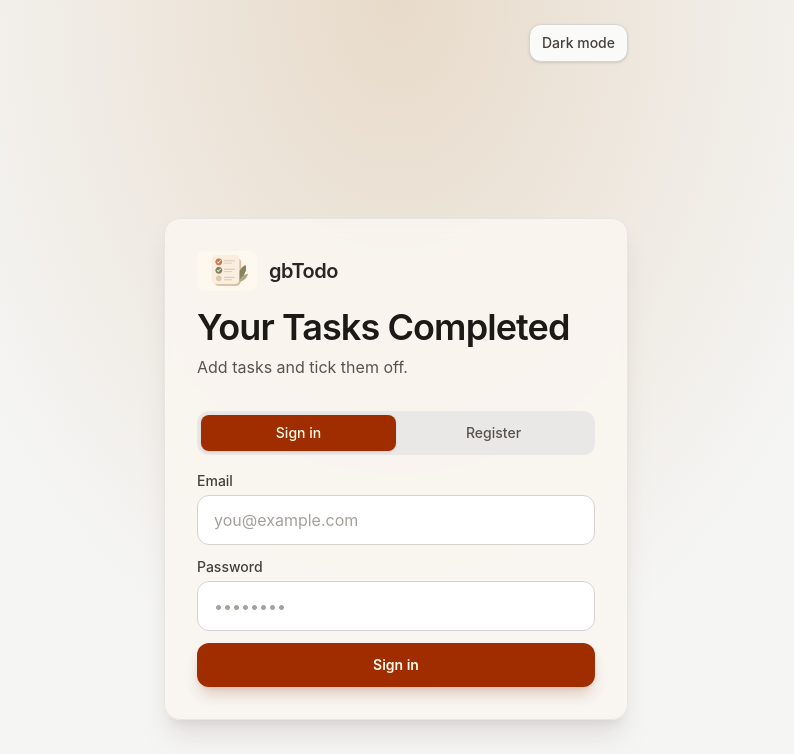
Test case: auth gate › registers a new account with email and password
Expected: the field labelled "Email" is shown, [197,495,595,545]
Click the tab "Register".
click(494, 433)  # box [396,415,591,451]
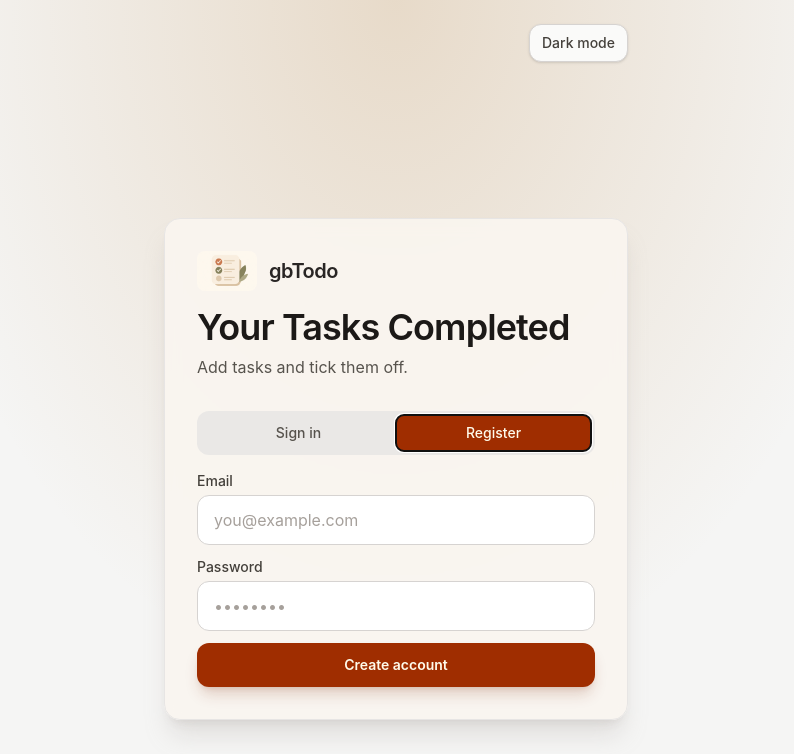
Type "newbie@example.com" into the field labelled "Email".
click(396, 520); type("newbie@example.com")  # box [197,495,595,545]
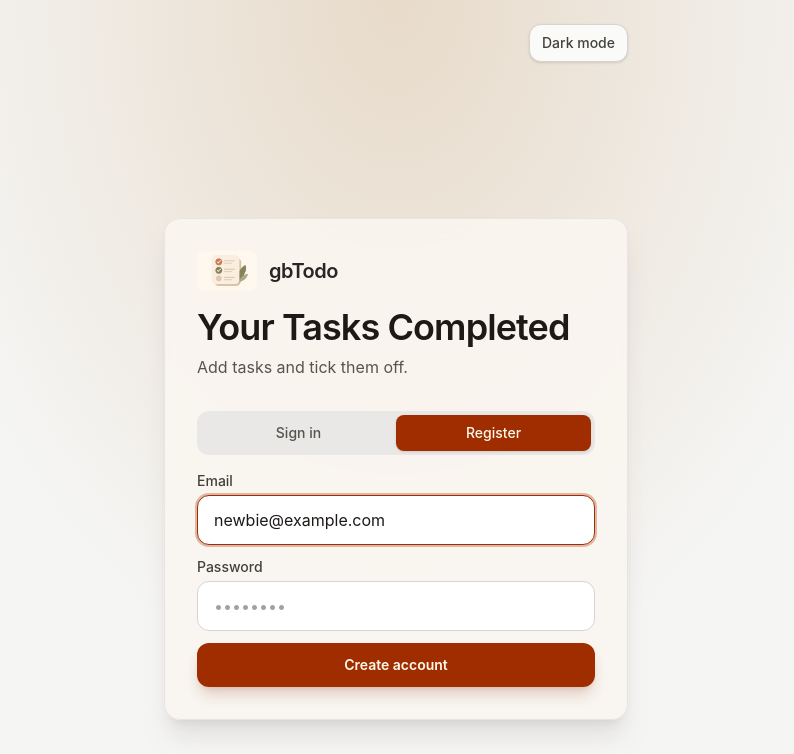
Type "secret123" into the password field labelled "Password".
click(396, 606); type("secret123")  # box [197,581,595,631]
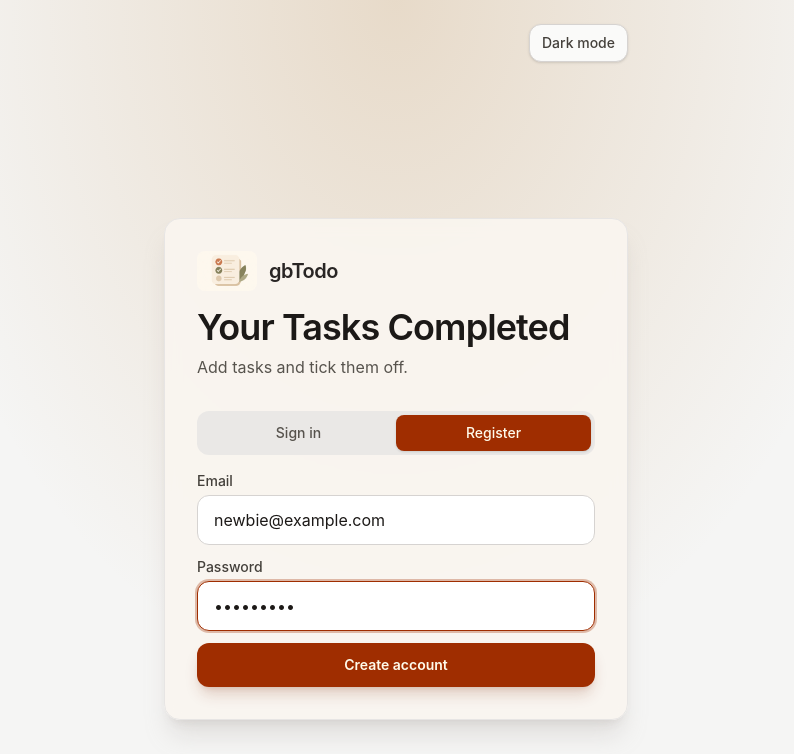
Click the button "Create account".
click(396, 665)  # box [197,643,595,687]
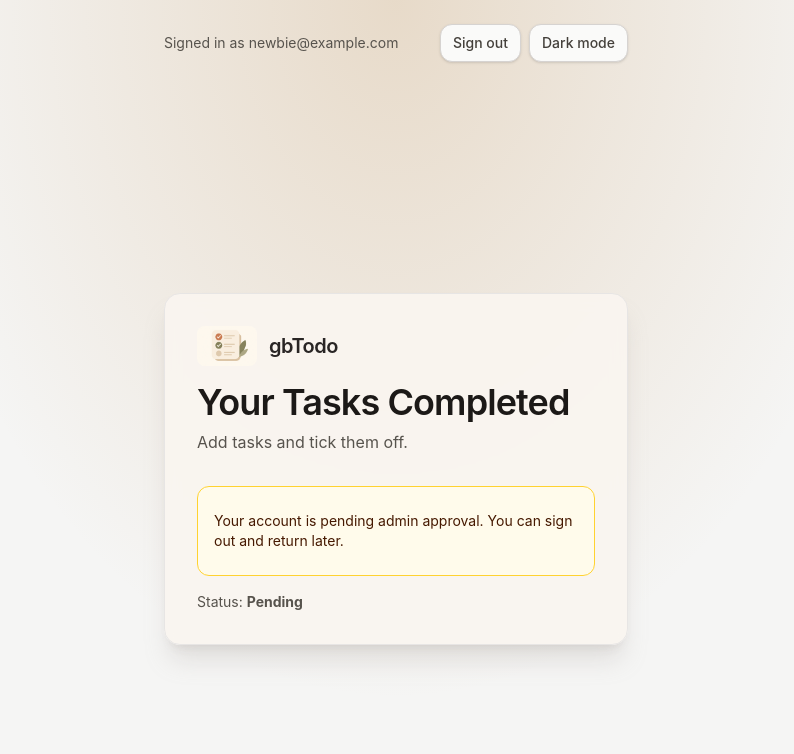
Expected: the element with test id "account-status" is shown, [197,486,595,612]
